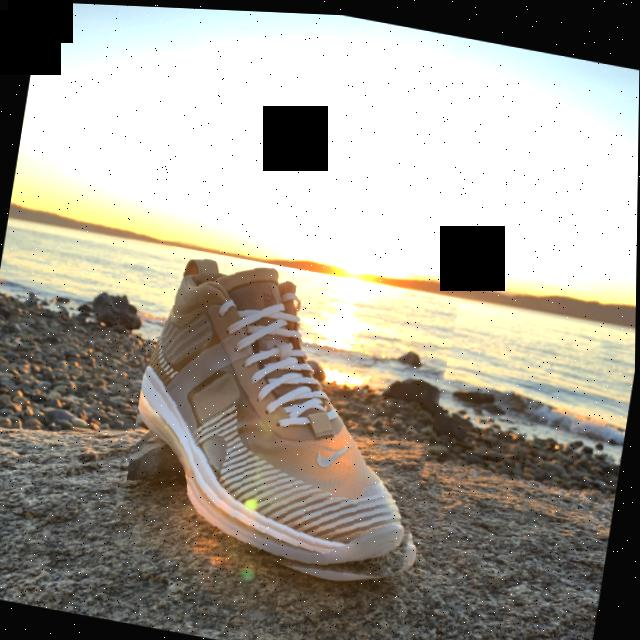shoe: (118, 241, 464, 598)
